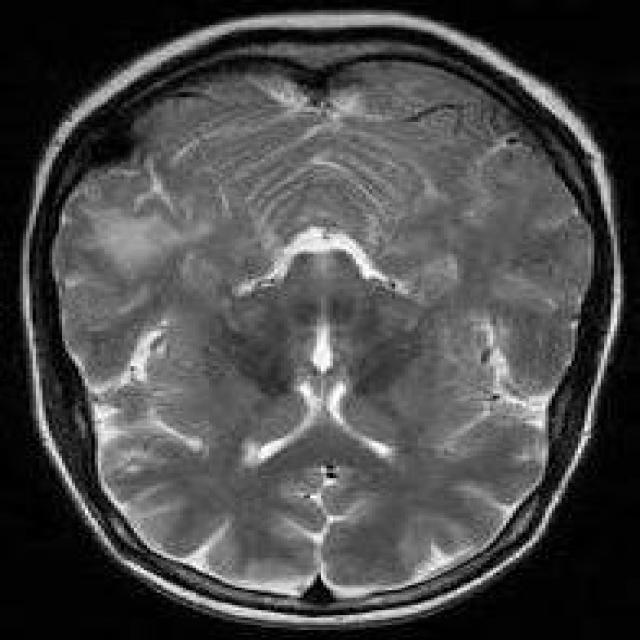notumor: (26, 15, 617, 623)
